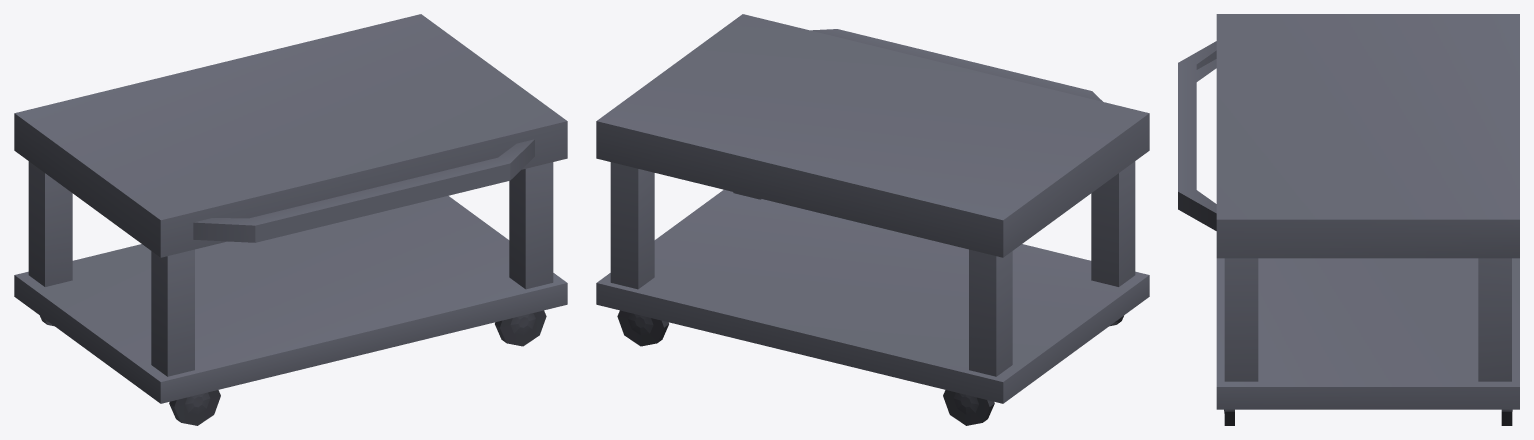
File: Moving Tray.fbx
3 views of the same model, side by side, from view 1: azimuth 30°, elevation 25°; view 2: azimuth 150°, elevation 25°; view 3: azimuth 270°, elevation 25° (orthographic). The views are drawn at different scales.
Visible parts, largest first — view 1: moving tray; view 2: moving tray; view 3: moving tray.
Part boxes in pixels (left/top/right/bottom): moving tray: left=14, top=14, right=567, bottom=425; moving tray: left=596, top=14, right=1149, bottom=425; moving tray: left=1178, top=14, right=1519, bottom=425.
Size of the model in its own units: 4.22 by 2.16 by 2.96.
Materials: 1 (1 with a texture image).
